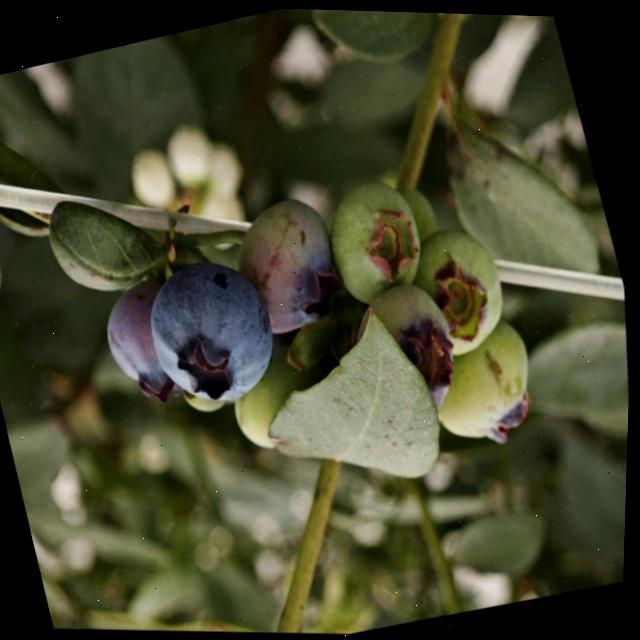RipeBlueBerry: (118, 229, 312, 439)
Semi-RipeBlueBerry: (204, 170, 373, 364)
UnripeBlueBerry: (409, 292, 565, 467), (303, 152, 458, 328)
